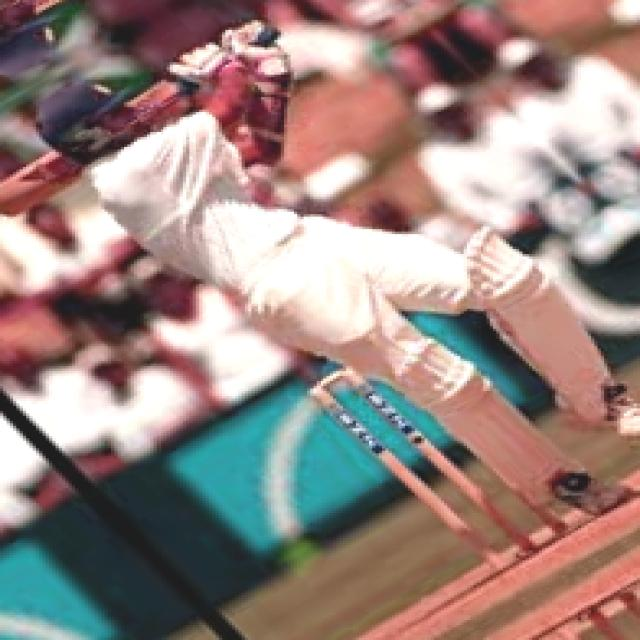toe: (0, 182, 20, 224)
